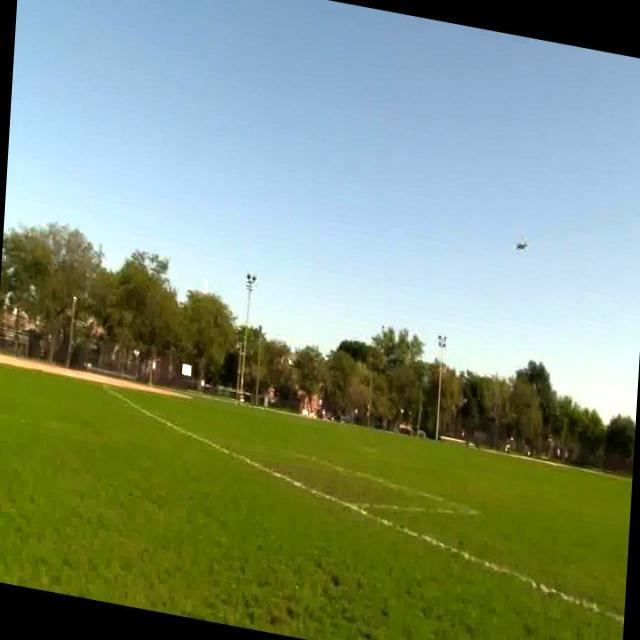drone: (512, 232, 532, 257)
